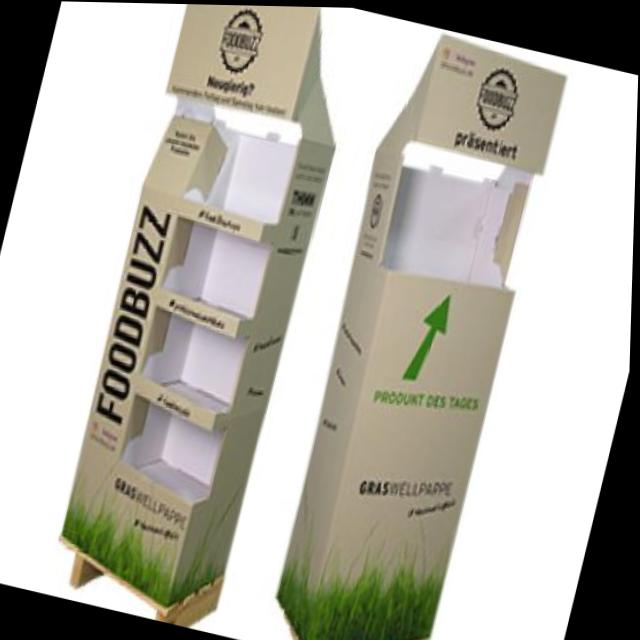box: (27, 1, 377, 638), (244, 13, 589, 640)
